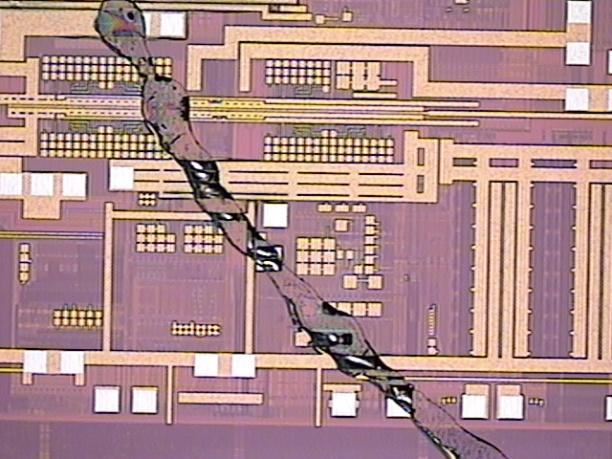SCRATCH: (91, 1, 513, 459)
